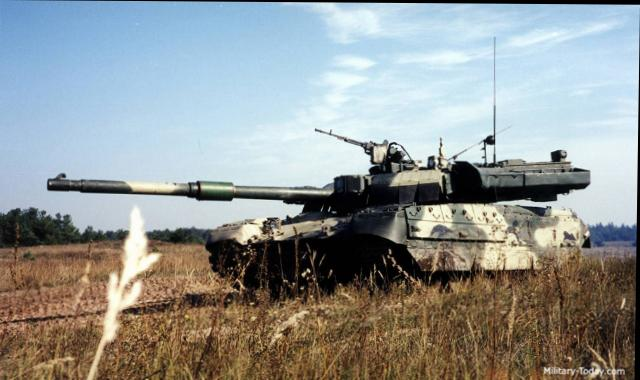tank: (216, 131, 593, 289)
